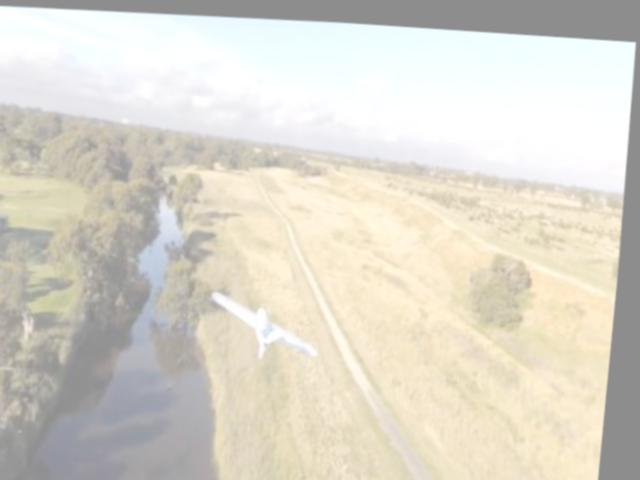uav: (212, 283, 332, 360)
